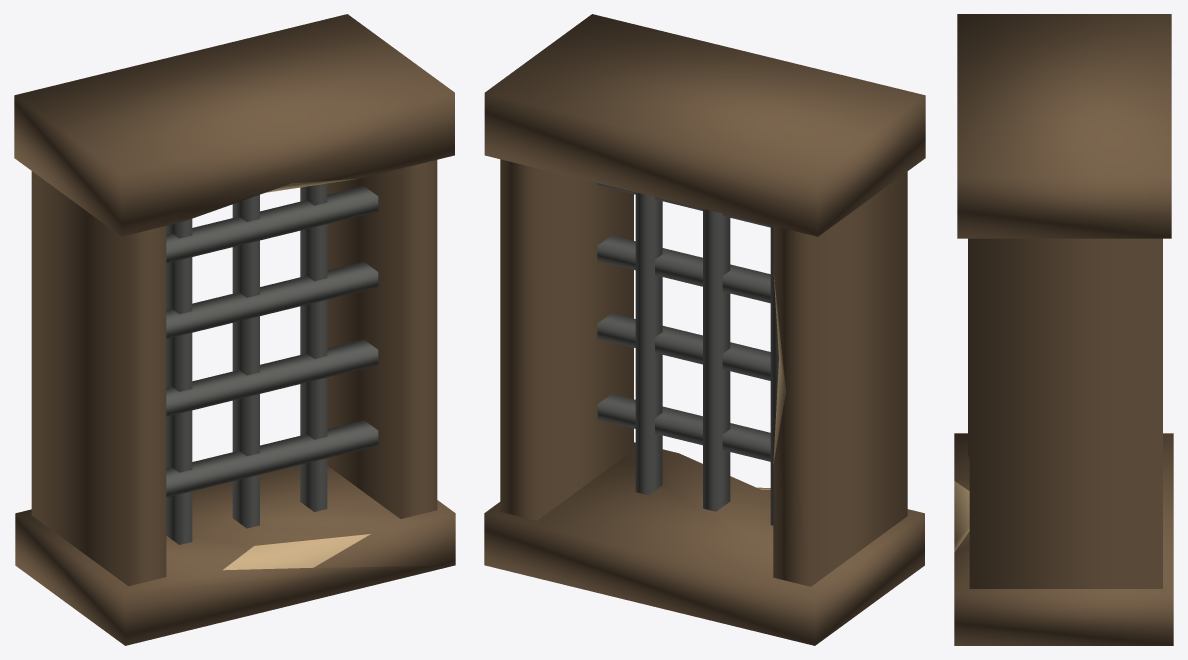
Rendered from rpgpp_ag_window_04b.fbx.
The picture shows the model from 3 angles, left to right: view 1: azimuth 30°, elevation 25°; view 2: azimuth 150°, elevation 25°; view 3: azimuth 270°, elevation 25°; orthographic projection.
Visible parts, largest first — view 1: rpgpp_ag_window_04b; view 2: rpgpp_ag_window_04b; view 3: rpgpp_ag_window_04b.
Part boxes in pixels (box(x1,y1,x2,y2)): rpgpp_ag_window_04b: box(14, 14, 455, 645); rpgpp_ag_window_04b: box(484, 14, 925, 645); rpgpp_ag_window_04b: box(954, 14, 1173, 645).
Size of the model in its own units: 0.9879 by 1.34 by 0.5651.
